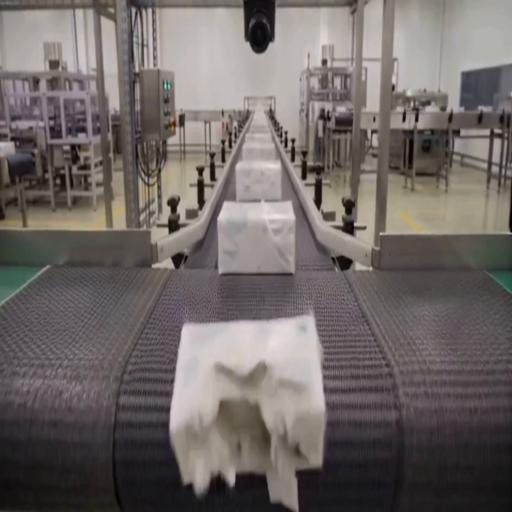defective: (169, 313, 326, 510)
good: (217, 199, 295, 277), (235, 159, 282, 202), (242, 140, 276, 162), (246, 129, 273, 143)
